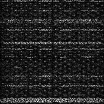lte: (1, 97, 104, 102), (1, 41, 104, 45)
